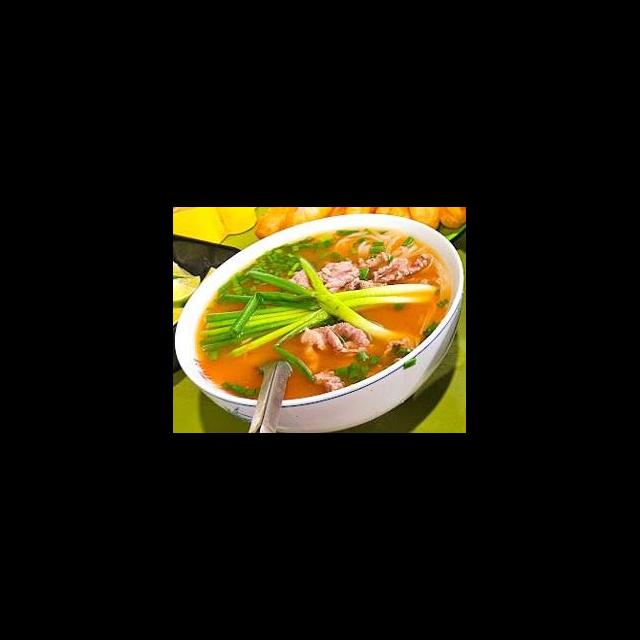thit bo: (299, 319, 376, 360), (286, 258, 362, 293), (370, 251, 436, 286)
